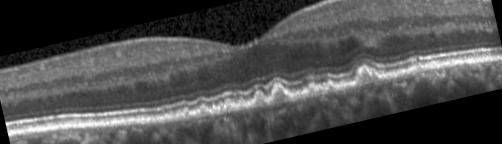retinal_drusen: (356, 66, 384, 86), (270, 86, 291, 104), (184, 107, 211, 119), (254, 92, 268, 106), (236, 96, 246, 109), (225, 98, 235, 111), (217, 101, 226, 112), (308, 86, 317, 95), (317, 85, 325, 93), (328, 83, 335, 91), (211, 107, 217, 113)
